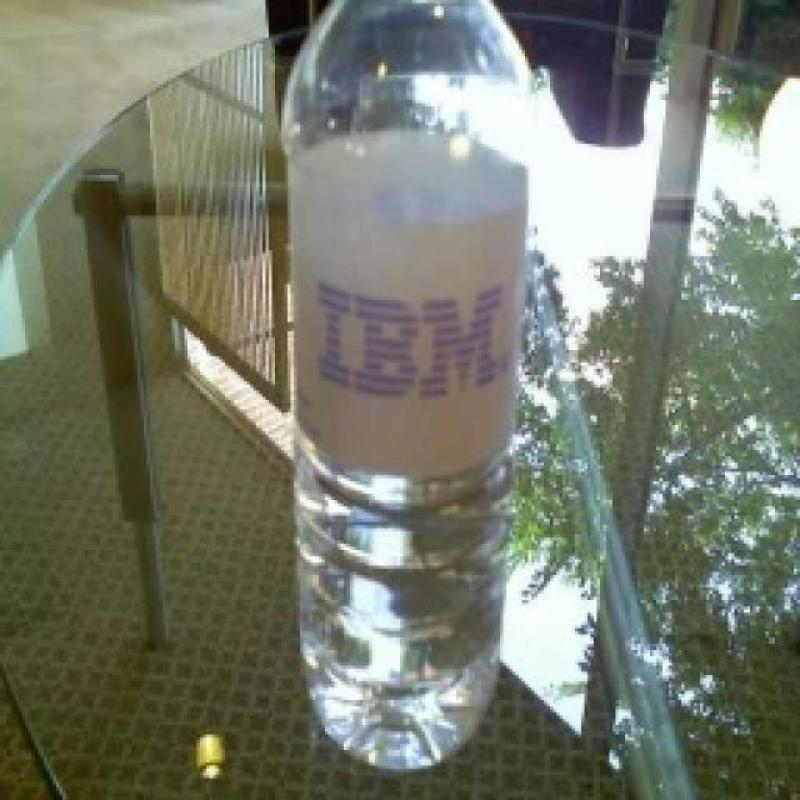botella: (278, 0, 541, 769)
